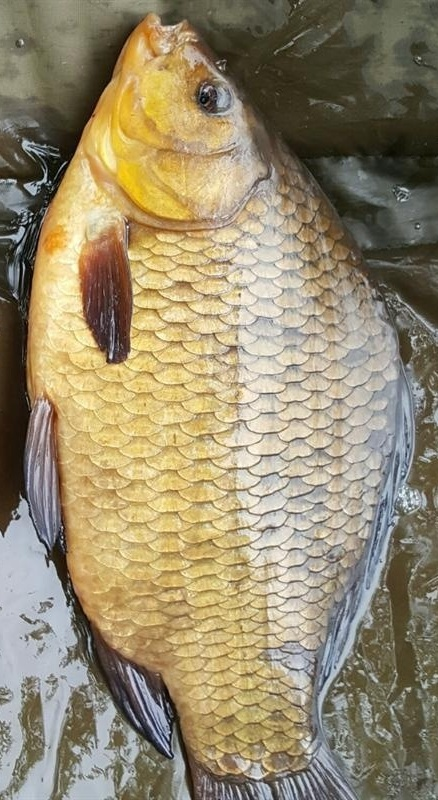Carassius carassius: (20, 9, 418, 800)
